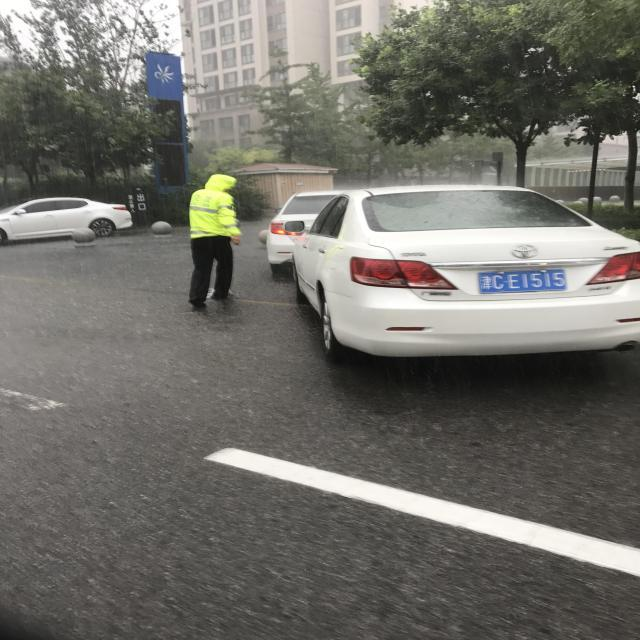car: (186, 0, 358, 347), (189, 298, 278, 370), (198, 506, 240, 640)
